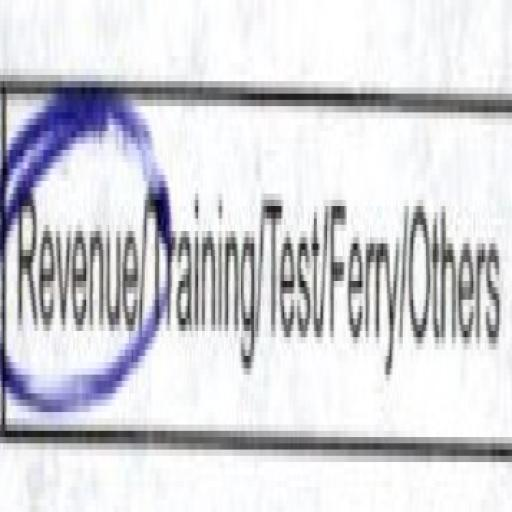check: (0, 69, 141, 431)
